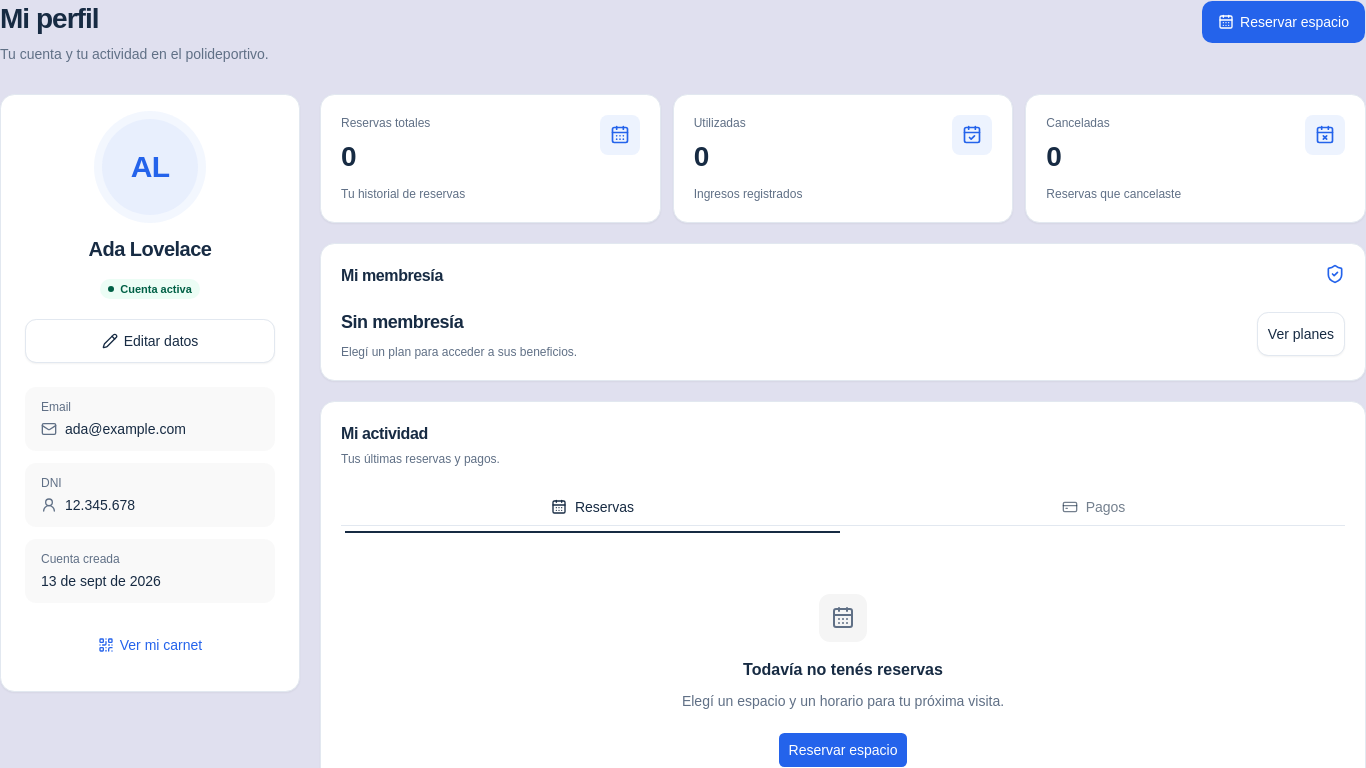
Test: Incremento 1 › guarda el perfil sin enviar rol ni estado
This screenshot has width=1366, height=768.
expect the heading "Ada Lovelace" is shown: met, box 88,235 -> 212,263
expect the field labelled "Nombre completo" is not shown: met
Click the button "Editar datos" at (150, 341), box 25,319 -> 275,363
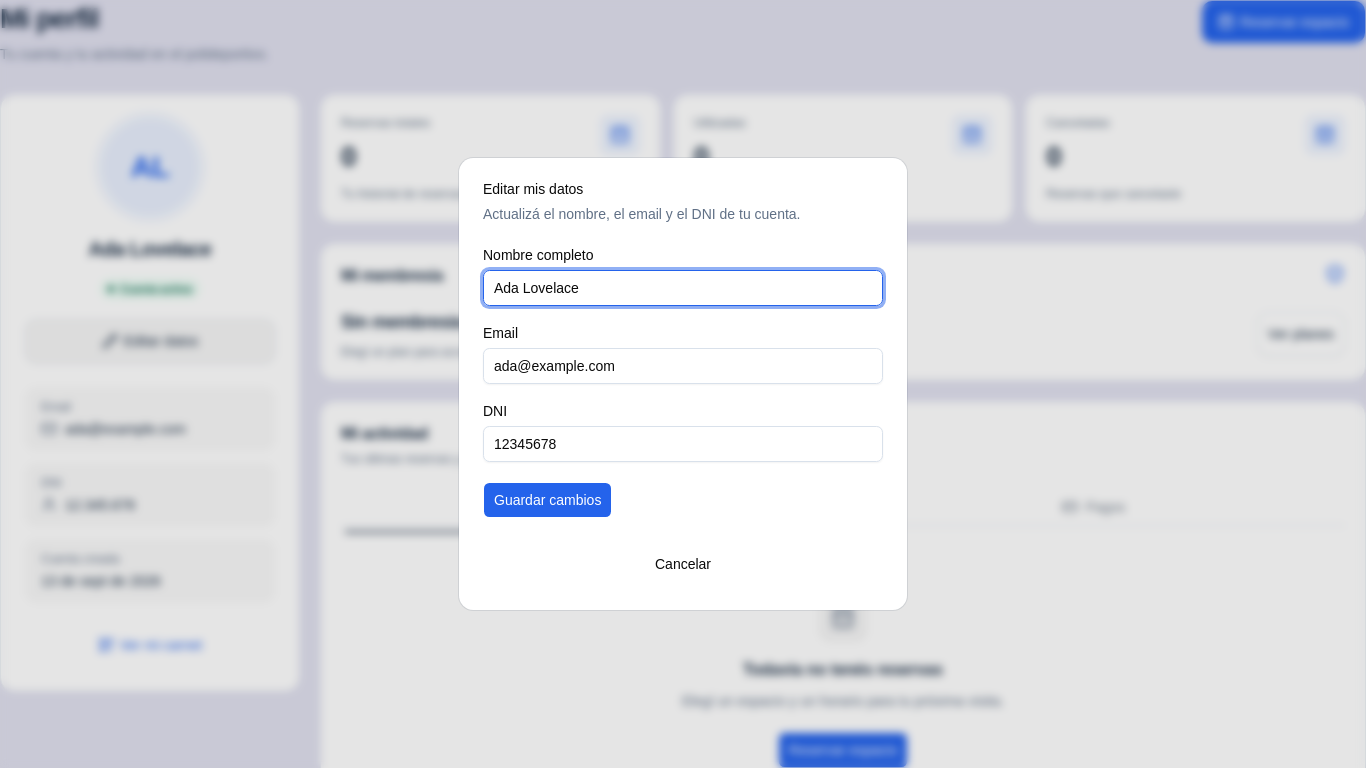
Replace the text in the field labelled "Nombre completo" with "Ada editada" at (683, 288), box 483,270 -> 883,306
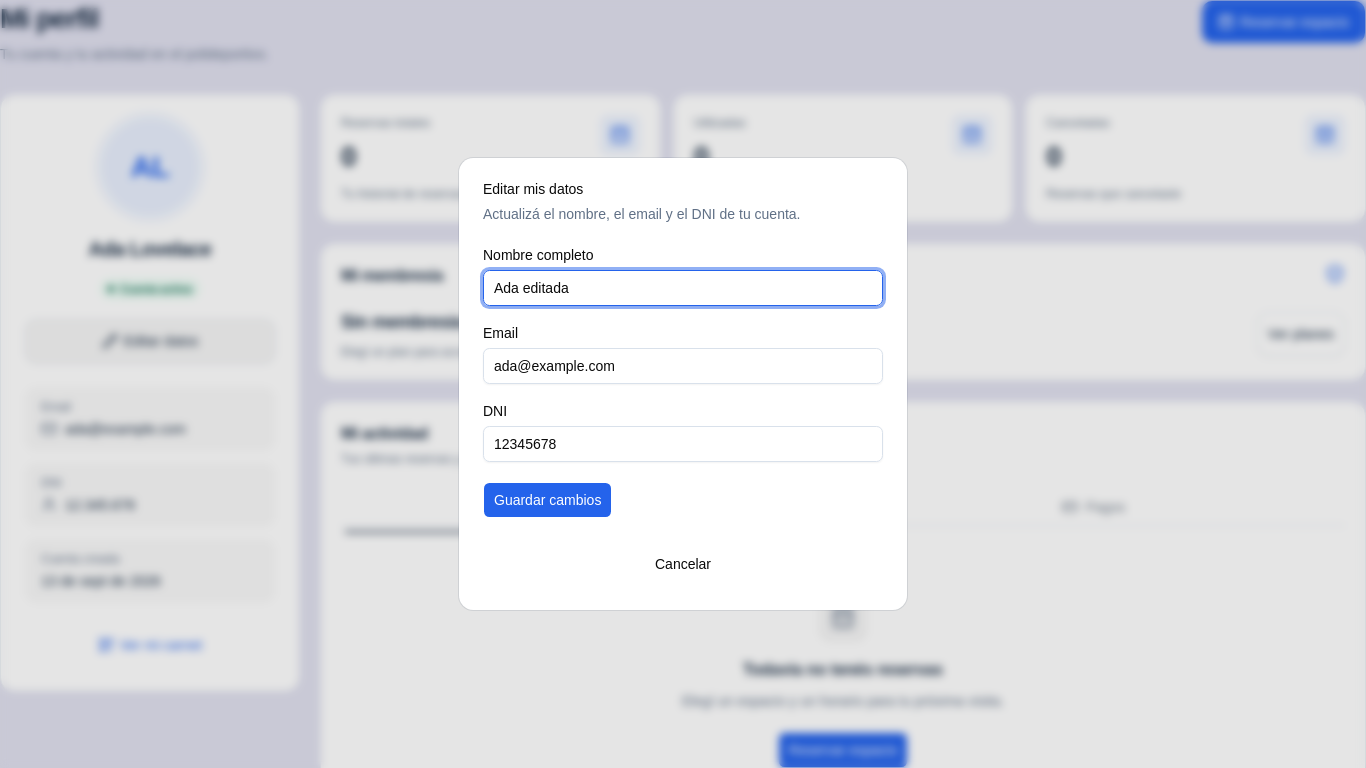
Click the button "Guardar cambios" at (548, 500), box 483,482 -> 612,518
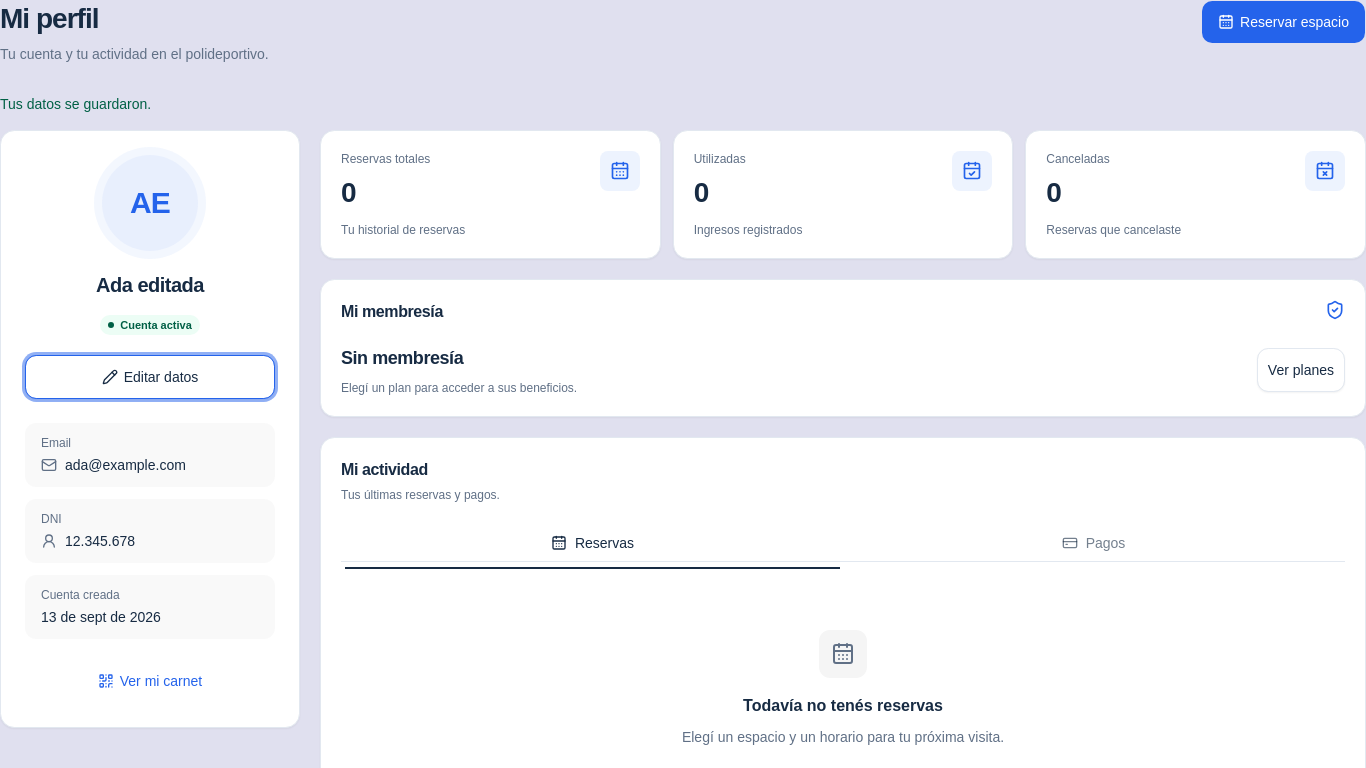
expect the text "Tus datos se guardaron." is shown: met, box 0,96 -> 151,112
expect the dialog is gone: met
expect the heading "Ada editada" is shown: met, box 96,271 -> 204,299
